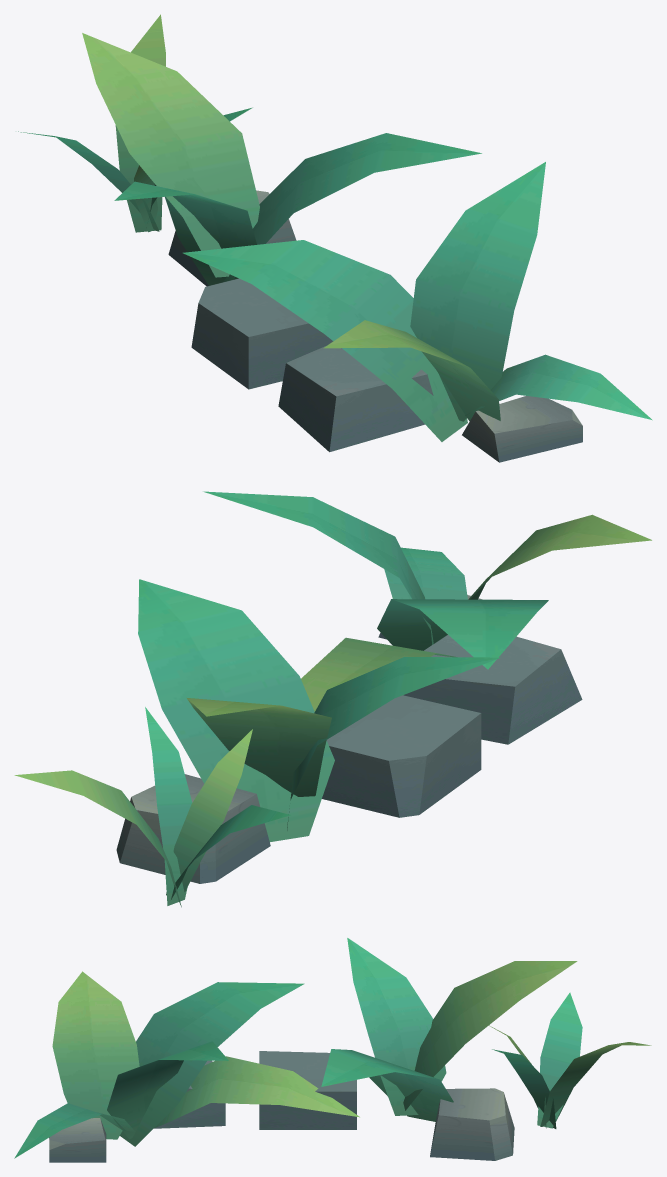
Rendered from Wall1B-002_40_17_9015.fbx.
3 renders of one model, top to bottom at view 1: azimuth 30°, elevation 25°; view 2: azimuth 150°, elevation 25°; view 3: azimuth 270°, elevation 25°, orthographic. The views are drawn at different scales.
Visible parts, largest first — view 1: Wall2; view 2: Wall2; view 3: Wall2.
Part boxes in pixels (<box>): Wall2: <box>18,14,652,462</box>; Wall2: <box>14,491,651,907</box>; Wall2: <box>14,938,651,1162</box>.
Bounding box in the file's own units: 1.8 × 0.9666 × 3.7.
